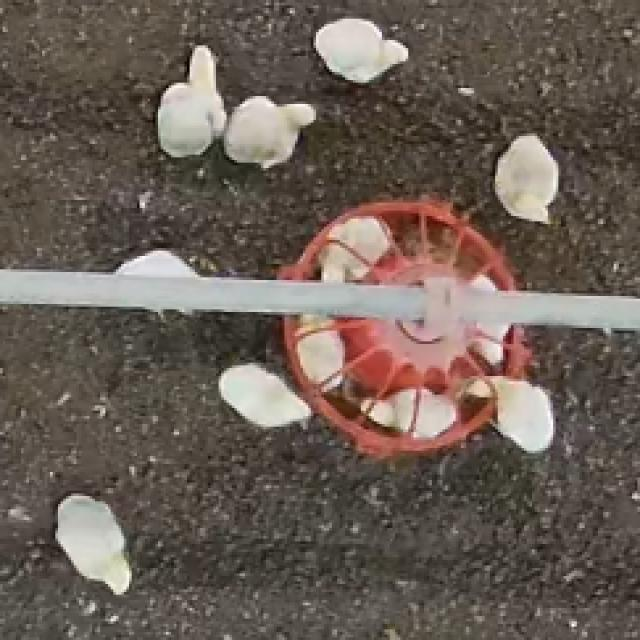broiler: (158, 45, 224, 155), (58, 493, 129, 592), (224, 96, 313, 168), (313, 19, 406, 83), (219, 363, 308, 427), (493, 133, 556, 221), (361, 389, 456, 437), (490, 379, 553, 451), (319, 216, 387, 280), (295, 331, 342, 387), (116, 251, 198, 275)
pipe: (0, 269, 427, 317), (461, 291, 637, 328)
rice: (284, 317, 527, 453), (279, 200, 514, 291)
